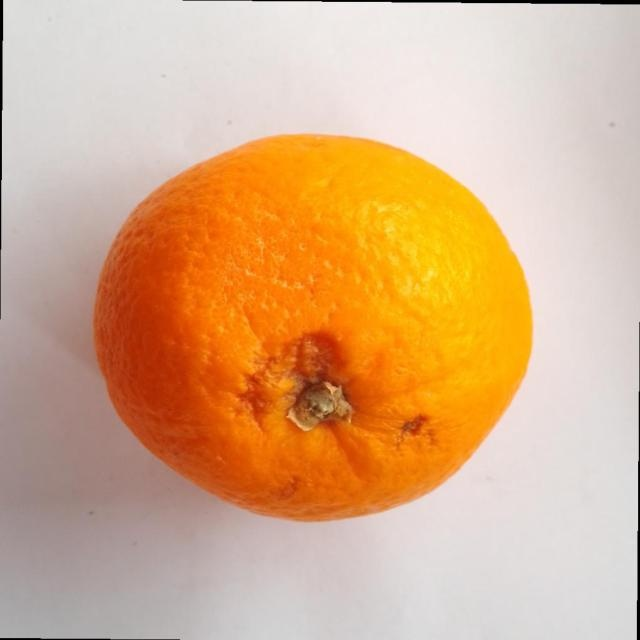agrume: (92, 131, 534, 523)
